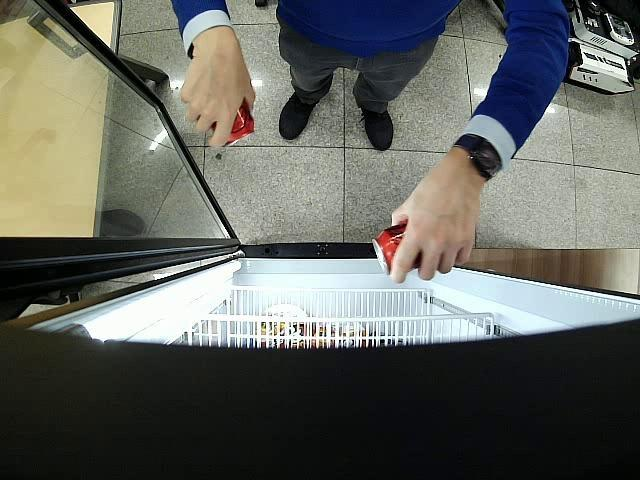11_cocaColaZero: (372, 222, 421, 274), (210, 97, 256, 147)
